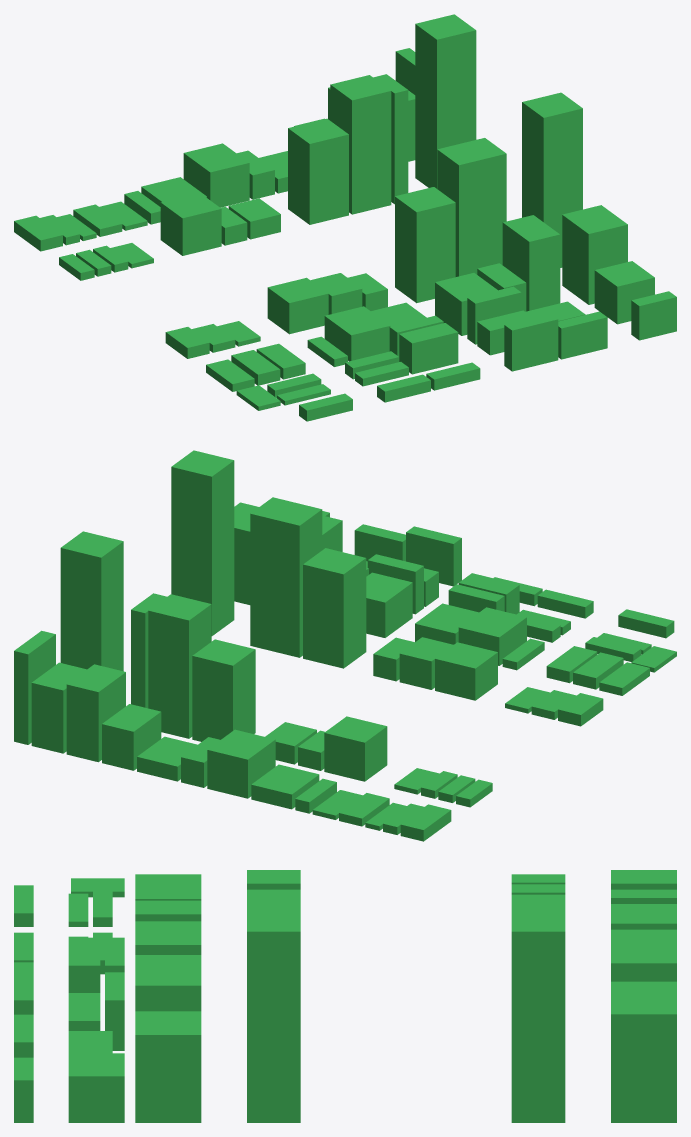
The model's file is 03_Residencial.glb.
The picture shows the model from 3 angles, top to bottom: view 1: azimuth 30°, elevation 25°; view 2: azimuth 150°, elevation 25°; view 3: azimuth 270°, elevation 25°; orthographic projection. The views are drawn at different scales.
Visible parts, largest first — view 1: R_Alta_012, R_Alta_003, R_Alta_002, R_Alta_010, R_Alta_001, R_Alta_009, R_Alta_005, R_Alta_004, R_Media_009, R_Media_013, R_Media_001, R_Media_004 (+41 smaller); view 2: R_Alta_003, R_Alta_002, R_Alta_012, R_Alta_001, R_Alta_010, R_Alta_009, R_Alta_006, R_Media_009, R_Media_013, R_Alta_007, R_Media_001, R_Media_012 (+37 smaller); view 3: R_Alta_012, R_Alta_003, R_Alta_008, R_Alta_005, R_Media_022, R_Alta_004, R_Media_009, R_Media_004, R_Media_019, R_Baja_006, R_Media_018, R_Baja_008 (+25 smaller).
Part boxes in pixels (x1,y1,x2,y2): R_Alta_012: [415, 14, 476, 188]; R_Alta_003: [522, 92, 582, 267]; R_Alta_002: [437, 138, 506, 276]; R_Alta_010: [330, 75, 391, 214]; R_Alta_001: [395, 187, 455, 303]; R_Alta_009: [288, 118, 348, 224]; R_Alta_005: [562, 205, 627, 304]; R_Alta_004: [502, 215, 560, 311]; R_Media_009: [183, 143, 249, 207]; R_Media_013: [160, 193, 221, 255]; R_Media_001: [267, 277, 328, 334]; R_Media_004: [324, 306, 390, 361]; R_Alta_003: [171, 450, 234, 635]; R_Alta_002: [250, 497, 322, 657]; R_Alta_012: [60, 531, 123, 671]; R_Alta_001: [303, 548, 366, 668]; R_Alta_010: [148, 594, 211, 738]; R_Alta_009: [192, 639, 255, 741]; R_Alta_006: [66, 664, 125, 762]; R_Media_009: [207, 729, 275, 798]; R_Media_013: [324, 716, 387, 781]; R_Alta_007: [31, 662, 86, 753]; R_Media_001: [435, 642, 497, 700]; R_Media_012: [102, 704, 161, 770]; R_Alta_012: [511, 908, 565, 1122]; R_Alta_003: [247, 908, 300, 1122]; R_Alta_008: [611, 1006, 676, 1122]; R_Alta_005: [135, 1011, 201, 1122]; R_Media_022: [68, 1053, 124, 1122]; R_Alta_004: [135, 967, 201, 1011]; R_Media_009: [611, 939, 676, 981]; R_Media_004: [135, 921, 201, 954]; R_Media_019: [68, 937, 100, 992]; R_Baja_006: [135, 900, 201, 921]; R_Media_018: [105, 972, 124, 1050]; R_Baja_008: [611, 870, 676, 889].
Bounding box in the file's own units: 373 × 139 × 437.
